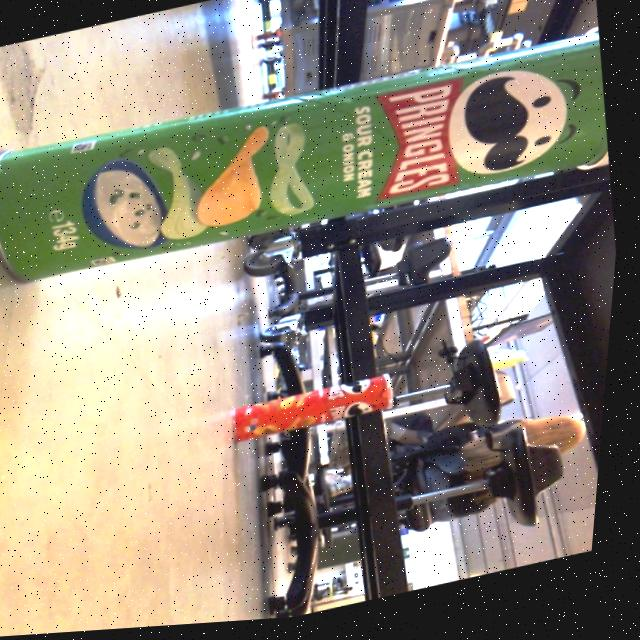greenpringles: (0, 20, 625, 318)
redpringles: (228, 366, 418, 461)
